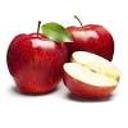apple: (64, 50, 120, 101)
